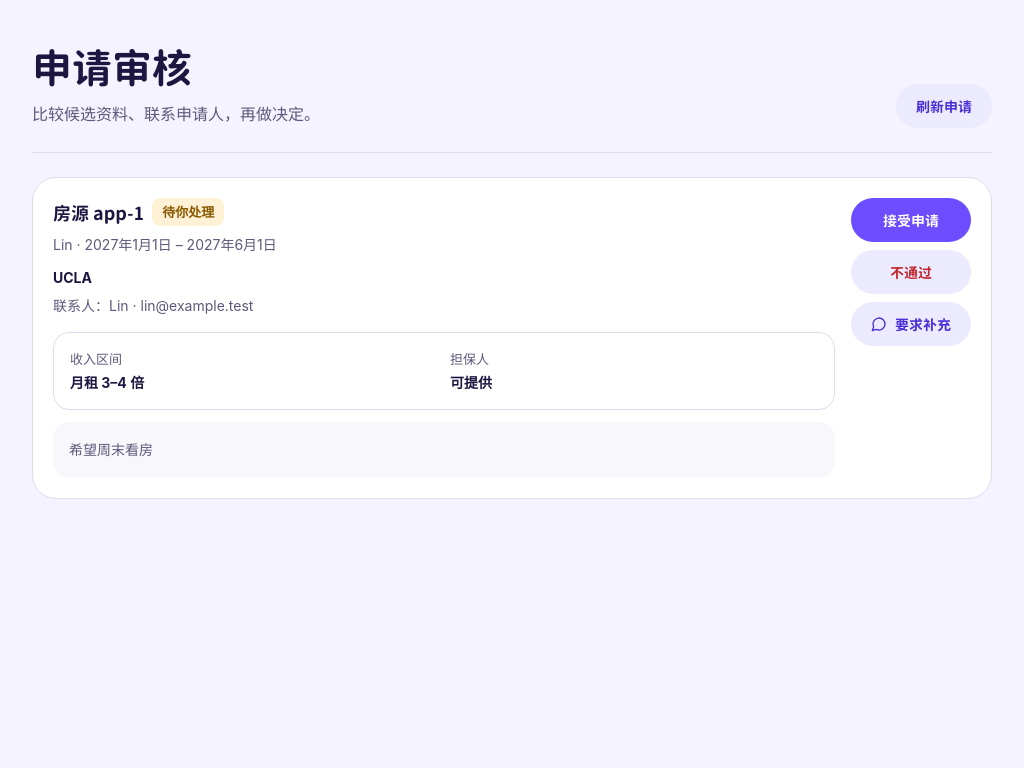
Scenario: retries a lost accept response with the same command and records one decision
Click the button "接受申请".
click(911, 220)  # box top-left (851, 198), bottom-right (971, 242)
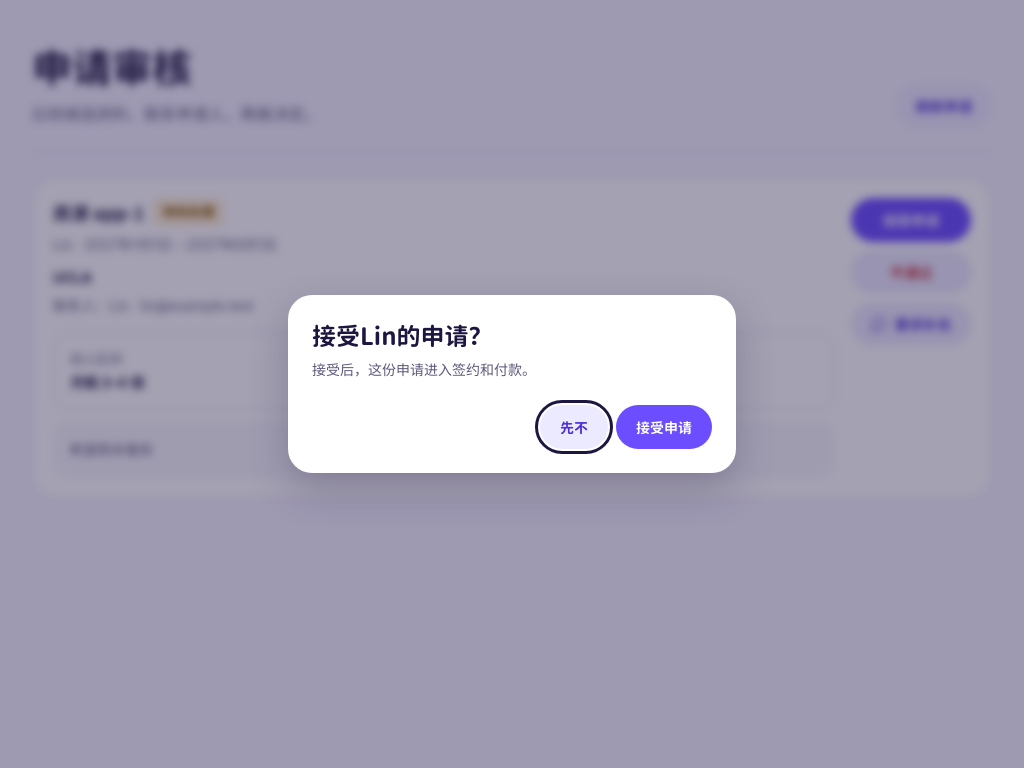
Click the button "接受申请".
click(664, 427)  # box top-left (616, 405), bottom-right (712, 449)
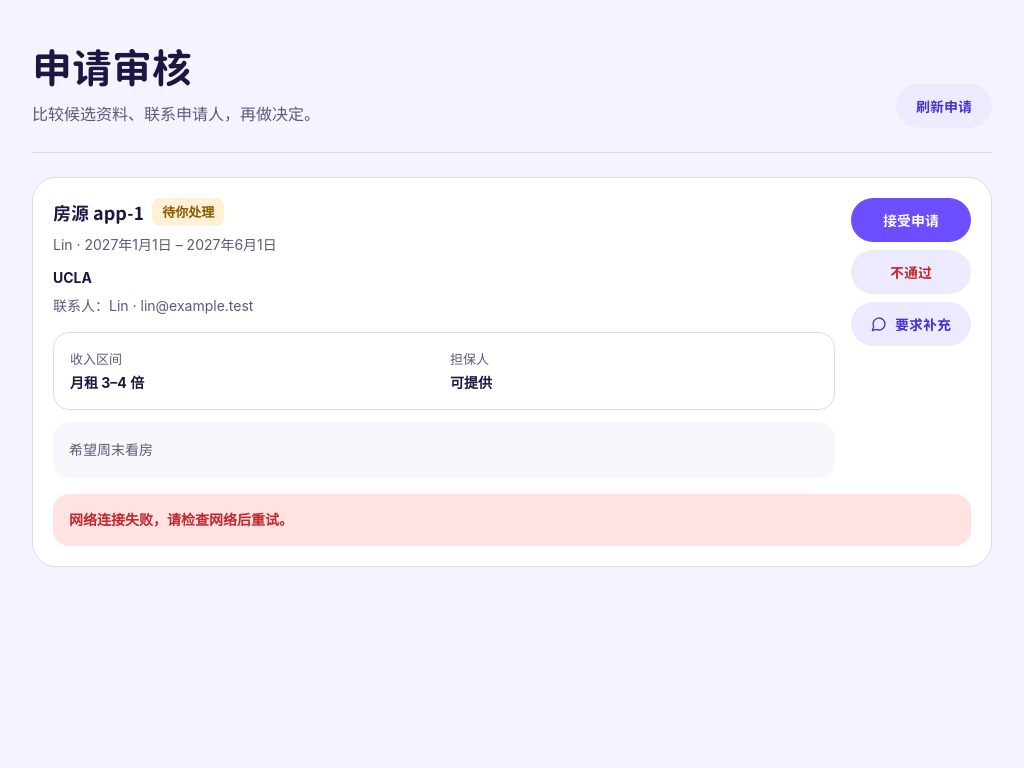
Check: the message "网络连接失败，请检查网络后重试。" is shown, box top-left (53, 494), bottom-right (971, 546)
Click the button "接受申请".
click(911, 220)  # box top-left (851, 198), bottom-right (971, 242)
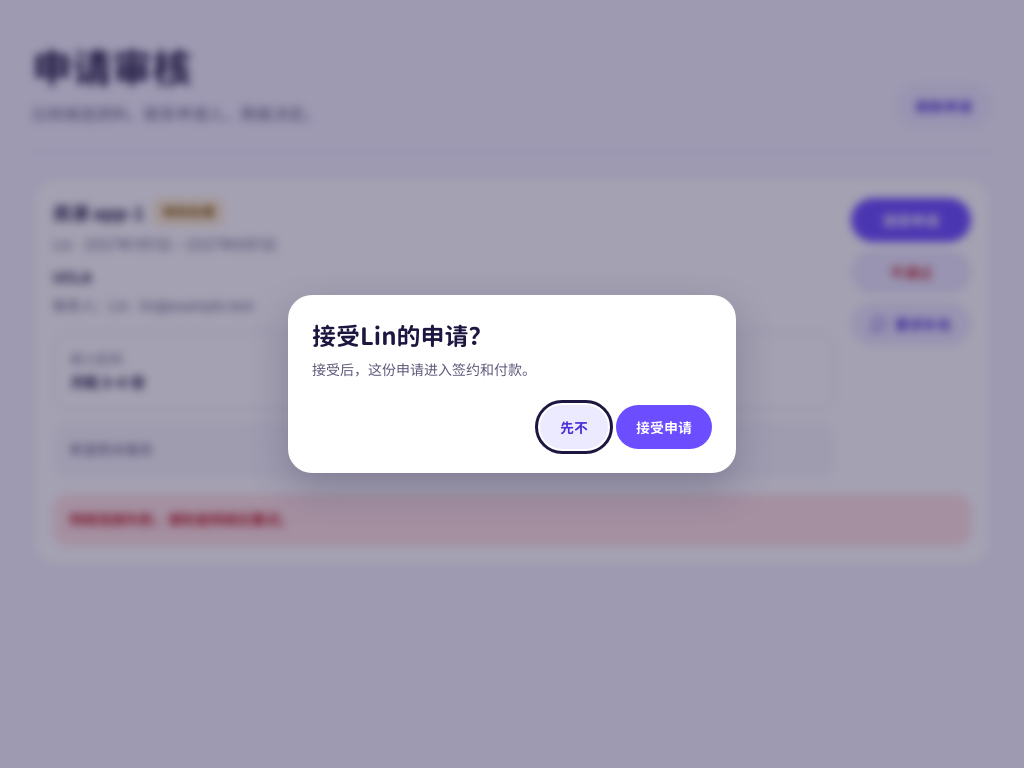
Click the button "接受申请".
click(664, 427)  # box top-left (616, 405), bottom-right (712, 449)
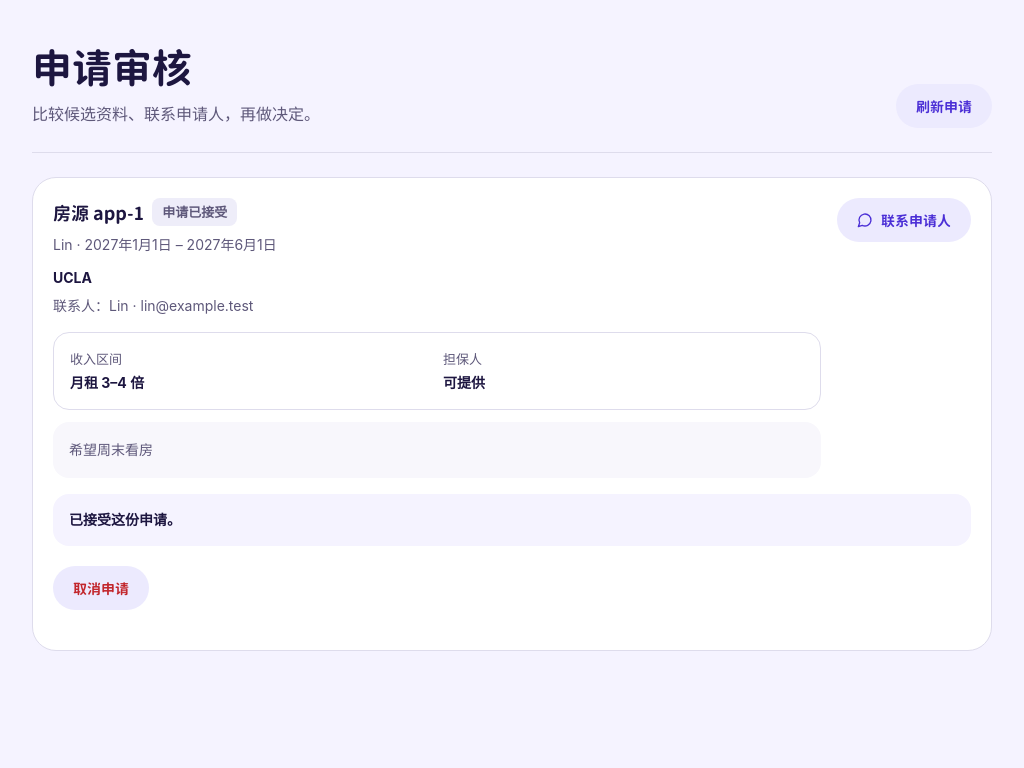
Check: the text "申请已接受" is shown, box top-left (152, 198), bottom-right (237, 226)
